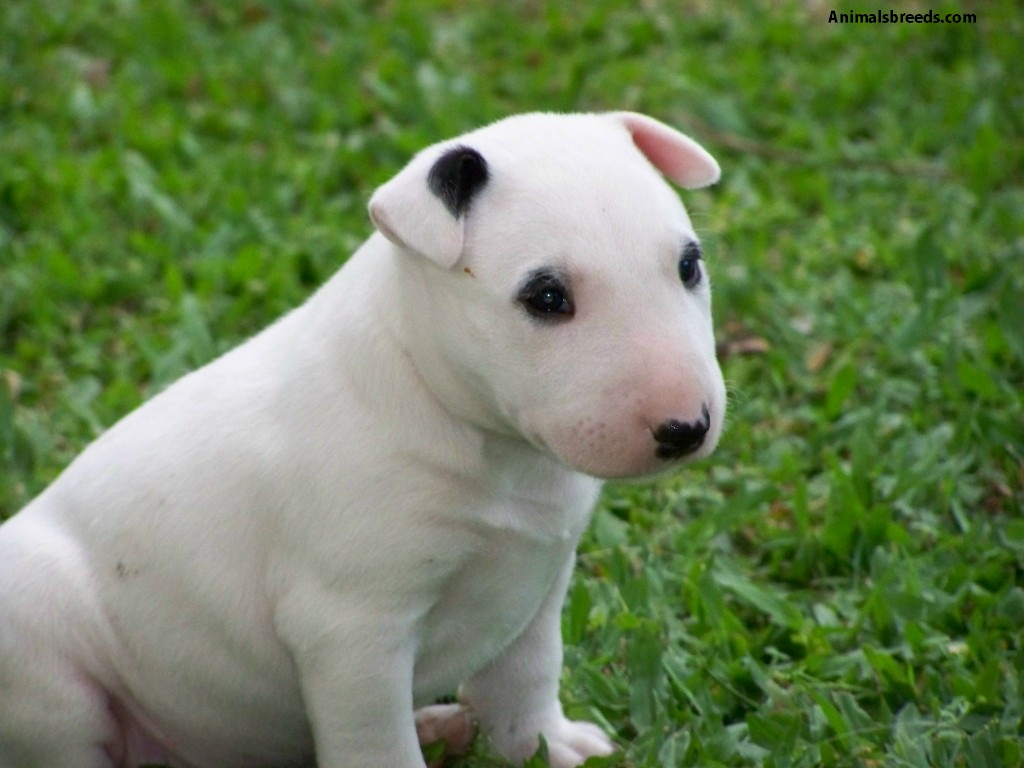bull_terrier: (0, 109, 730, 767)
